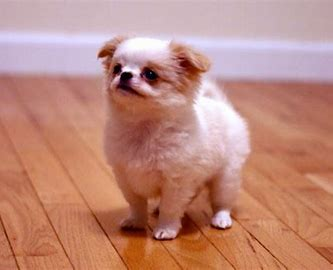dog: (89, 36, 255, 245)
